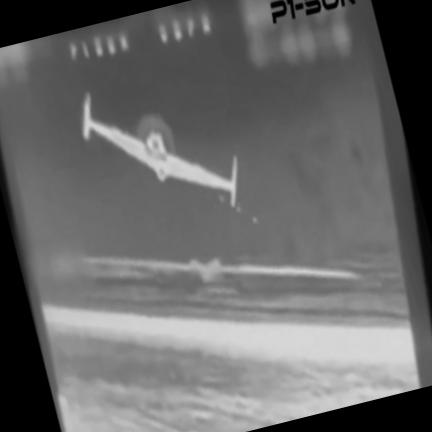Shahed: (83, 93, 238, 207)
